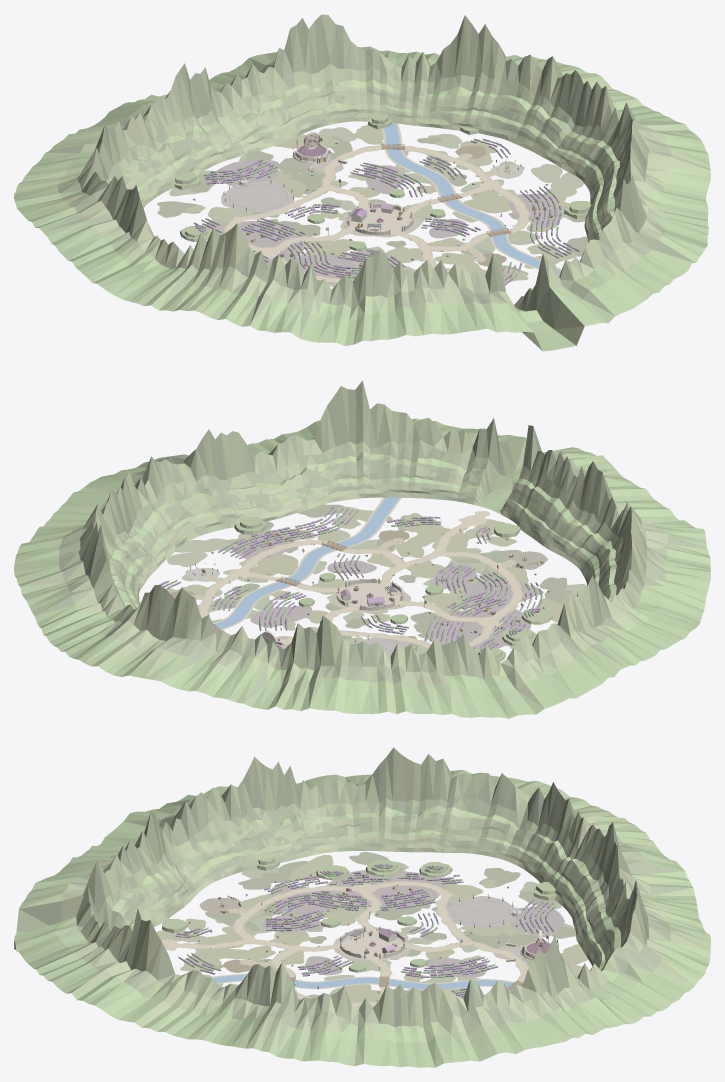
File: map_field_perfume.glb
3 renders of one model, top to bottom at view 1: azimuth 30°, elevation 25°; view 2: azimuth 150°, elevation 25°; view 3: azimuth 270°, elevation 25°, orthographic.
Visible parts, largest first — view 1: Z_field_perfume_penhascos, Z_field_perfume_agua_rio_1, Z_field_perfume_det_chao_-2_-1, Z_field_perfume_det_chao_-1_-3, Z_field_perfume_chao_nevoa, Z_field_perfume_det_chao_2_0, Z_field_perfume_det_chao_-1_-2, Z_field_perfume_det_chao_1_-1, Z_field_perfume_det_chao_0_-3, Z_field_perfume_det_chao_-2_1, Z_field_perfume_det_chao_0_1, Z_field_perfume_det_chao_-1_1 (+18 smaller); view 2: Z_field_perfume_penhascos, Z_field_perfume_det_chao_-2_-1, Z_field_perfume_agua_rio_1, Z_field_perfume_det_chao_-2_1, Z_field_perfume_det_chao_-1_1, Z_field_perfume_det_chao_-1_2, Z_field_perfume_det_chao_2_0, Z_field_perfume_det_chao_1_-1, Z_field_perfume_det_chao_0_1, Z_field_perfume_det_chao_0_2, Z_field_perfume_det_chao_0_-2, Z_field_perfume_margem_rio_1 (+14 smaller); view 3: Z_field_perfume_penhascos, Z_field_perfume_det_chao_-2_-1, Z_field_perfume_det_chao_-2_1, Z_field_perfume_det_chao_-1_1, Z_field_perfume_det_chao_-1_-3, Z_field_perfume_chao_nevoa, Z_field_perfume_det_chao_-1_2, Z_field_perfume_agua_rio_1, Z_field_perfume_det_chao_-1_-2, Z_field_perfume_det_chao_-3_1, Z_field_perfume_det_chao_0_2, Z_field_perfume_det_chao_-3_0 (+19 smaller).
Boxes of the visible parts, bbox=[...] form: Z_field_perfume_penhascos: bbox=[14, 14, 710, 351]; Z_field_perfume_agua_rio_1: bbox=[383, 123, 561, 275]; Z_field_perfume_det_chao_-2_-1: bbox=[208, 219, 355, 266]; Z_field_perfume_det_chao_-1_-3: bbox=[211, 150, 309, 186]; Z_field_perfume_chao_nevoa: bbox=[221, 181, 294, 212]; Z_field_perfume_det_chao_2_0: bbox=[495, 183, 579, 227]; Z_field_perfume_det_chao_-1_-2: bbox=[238, 168, 369, 220]; Z_field_perfume_det_chao_1_-1: bbox=[403, 167, 504, 214]; Z_field_perfume_det_chao_0_-3: bbox=[275, 127, 356, 173]; Z_field_perfume_det_chao_-2_1: bbox=[269, 253, 359, 287]; Z_field_perfume_det_chao_0_1: bbox=[418, 237, 495, 264]; Z_field_perfume_det_chao_-1_1: bbox=[348, 230, 449, 273]; Z_field_perfume_penhascos: bbox=[14, 380, 710, 718]; Z_field_perfume_det_chao_-2_-1: bbox=[396, 600, 530, 651]; Z_field_perfume_agua_rio_1: bbox=[213, 497, 398, 629]; Z_field_perfume_det_chao_-2_1: bbox=[440, 551, 543, 618]; Z_field_perfume_det_chao_-1_1: bbox=[379, 523, 489, 588]; Z_field_perfume_det_chao_-1_2: bbox=[432, 519, 521, 563]; Z_field_perfume_det_chao_2_0: bbox=[194, 530, 300, 567]; Z_field_perfume_det_chao_1_-1: bbox=[223, 564, 342, 610]; Z_field_perfume_det_chao_0_1: bbox=[347, 538, 424, 568]; Z_field_perfume_det_chao_0_2: bbox=[397, 513, 451, 547]; Z_field_perfume_det_chao_0_-2: bbox=[250, 605, 311, 644]; Z_field_perfume_margem_rio_1: bbox=[213, 497, 401, 629]; Z_field_perfume_penhascos: bbox=[14, 747, 710, 1067]; Z_field_perfume_det_chao_-2_-1: bbox=[328, 870, 446, 932]; Z_field_perfume_det_chao_-2_1: bbox=[232, 884, 354, 940]; Z_field_perfume_det_chao_-1_1: bbox=[178, 911, 339, 951]; Z_field_perfume_det_chao_-1_-3: bbox=[498, 905, 576, 947]; Z_field_perfume_chao_nevoa: bbox=[446, 896, 516, 927]; Z_field_perfume_det_chao_-1_2: bbox=[156, 911, 259, 951]; Z_field_perfume_agua_rio_1: bbox=[213, 974, 522, 989]; Z_field_perfume_det_chao_-1_-2: bbox=[405, 895, 508, 954]; Z_field_perfume_det_chao_-3_1: bbox=[238, 861, 308, 889]; Z_field_perfume_det_chao_0_2: bbox=[180, 947, 251, 972]; Z_field_perfume_det_chao_-3_0: bbox=[288, 852, 388, 885].
Size of the model in its own units: 362 by 56.73 by 365.
